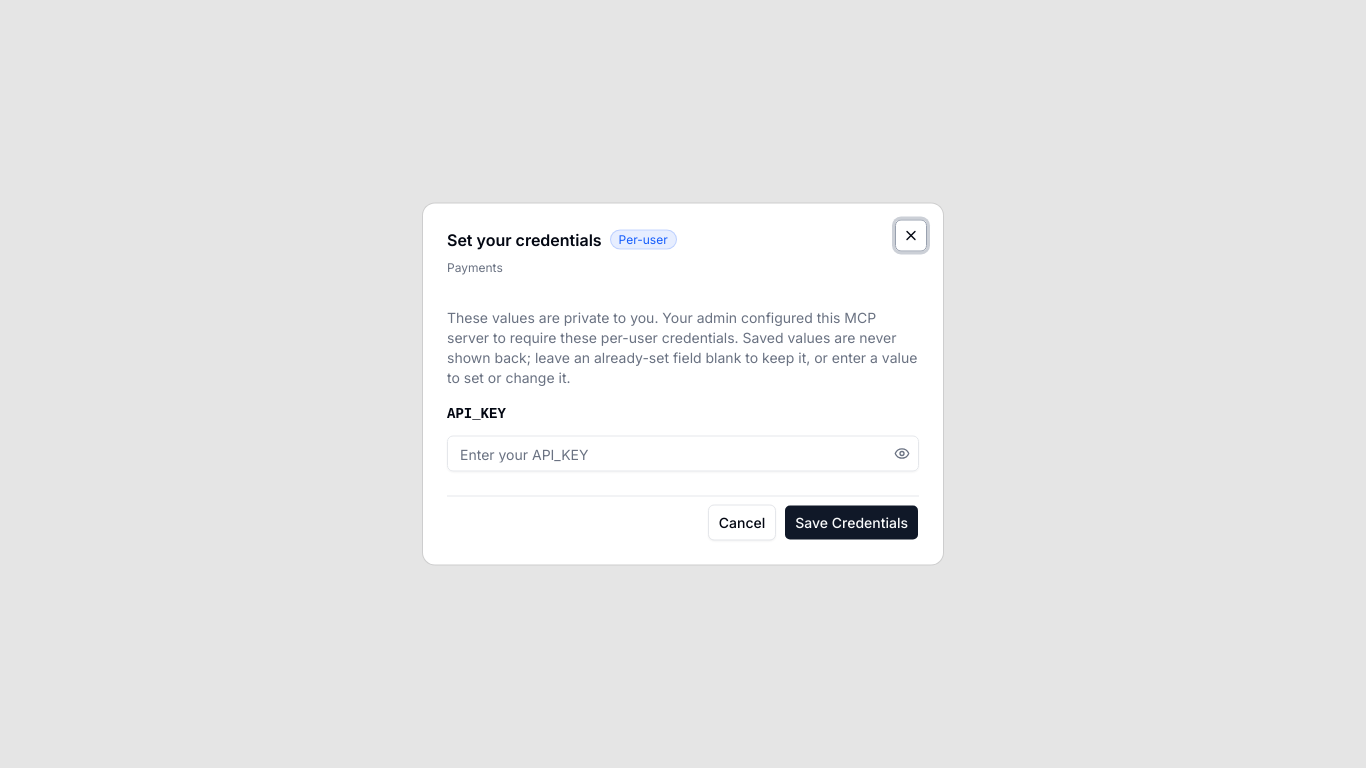
Test case: UserEnvVarsModal › reveals and re-masks the value through the visibility toggle
In the password field labelled "API_KEY": point(669, 454) [448,436,890,472], type "hunter2"
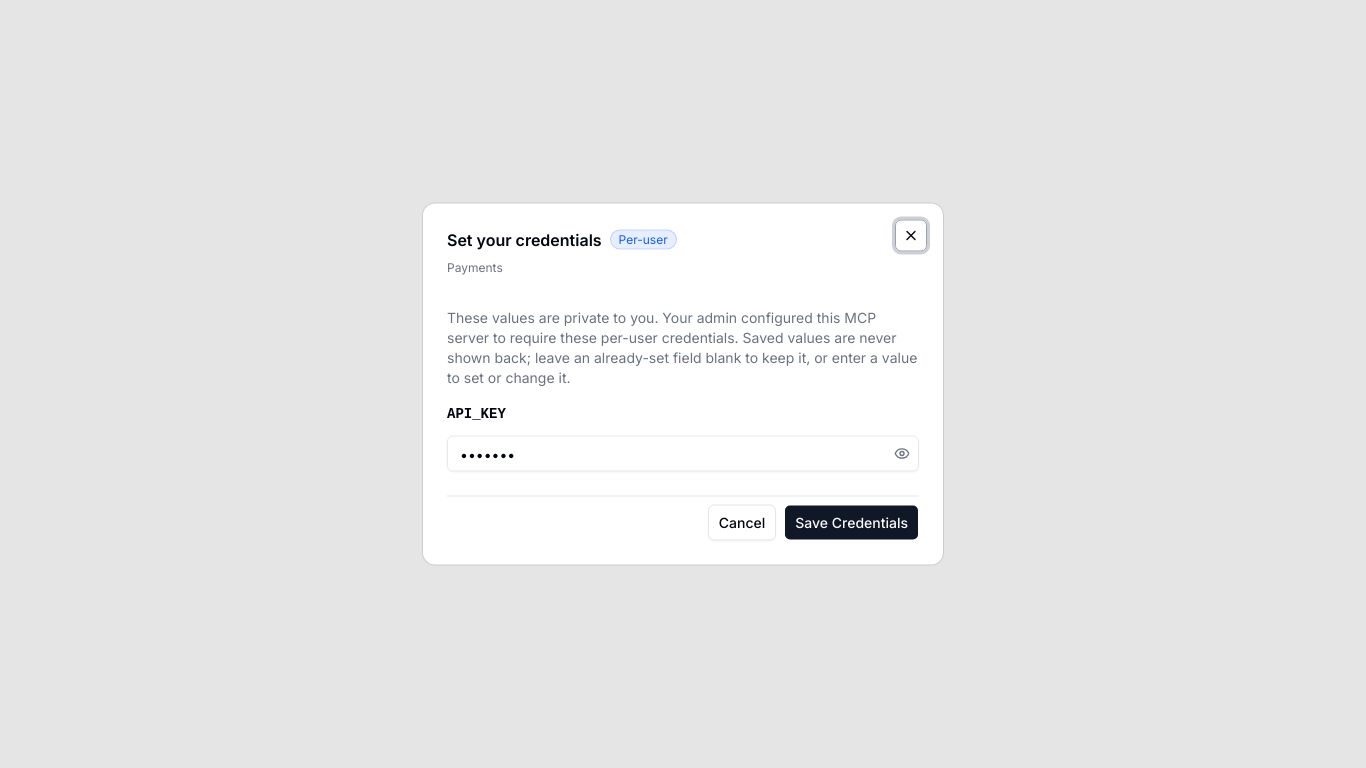
Click the button named "Show password": point(902, 454) [890,442,914,466]
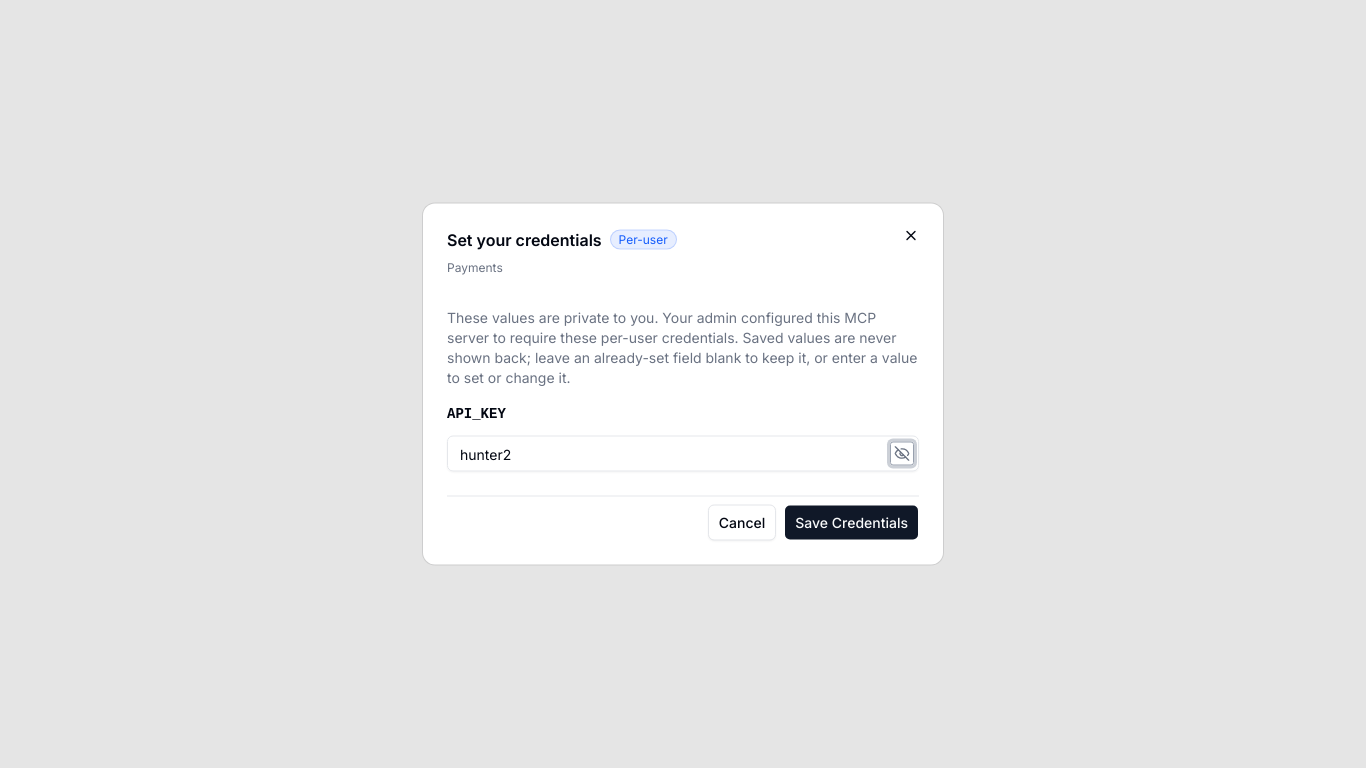
expect the field labelled "API_KEY" shows its text: met, box [448,436,890,472]
Click the button named "Hide password": point(902, 454) [890,442,914,466]
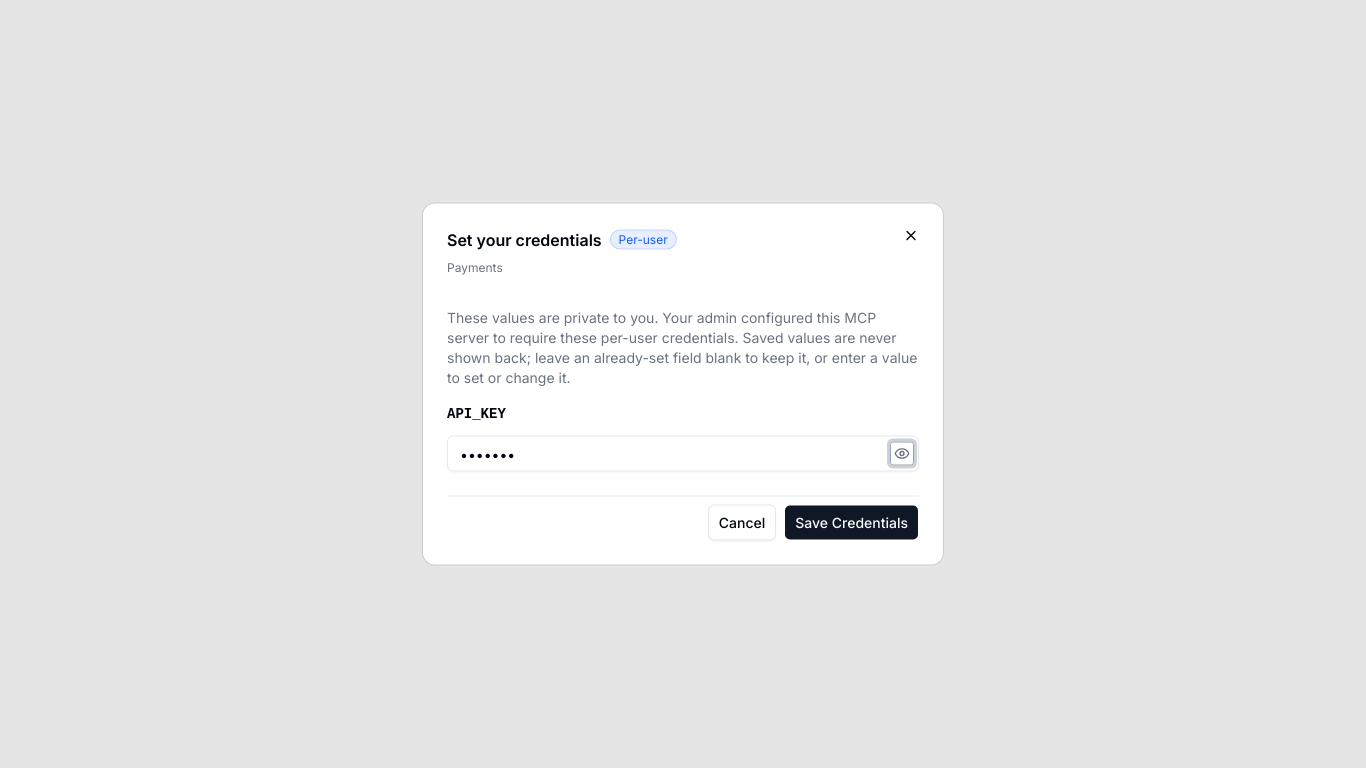
expect the password field labelled "API_KEY" hides its text: met, box [448,436,890,472]
